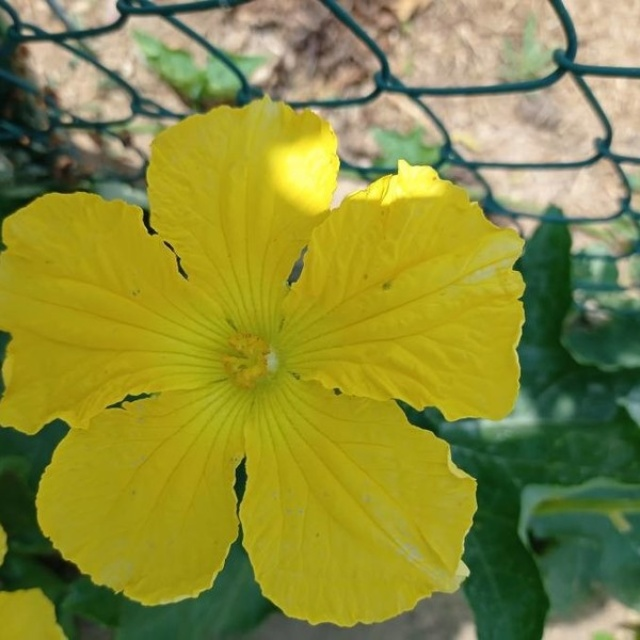obstacle: (20, 82, 603, 627)
